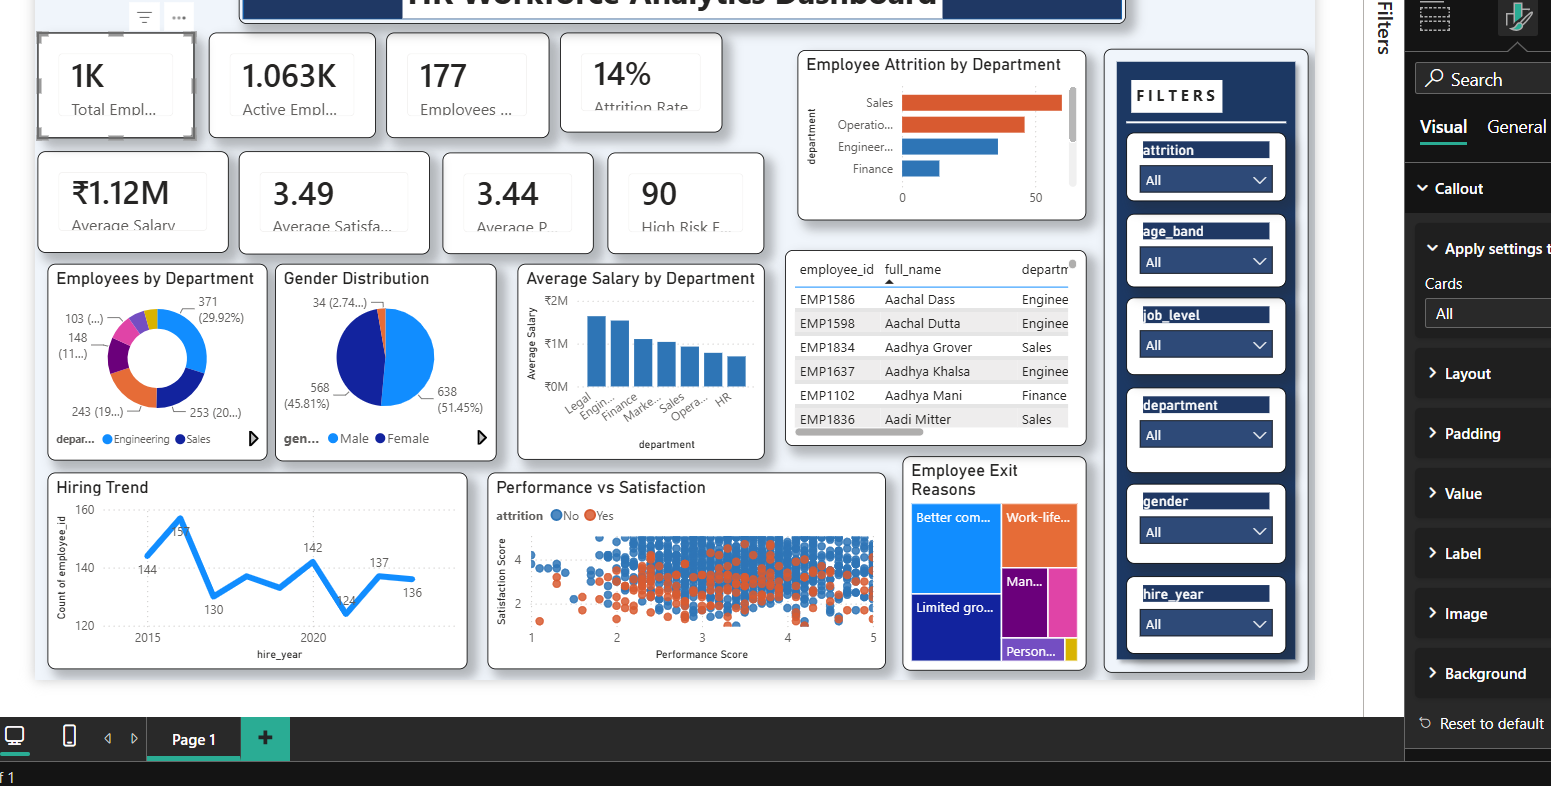

The page's visual inventory and layout, read from the dashboard file:
{"tool":"powerbi","page":{"name":"Page 1","canvas":[1280,720],"ordinal":0},"visuals":[{"type":"shape","box":[1069.1,89.1,204.5,623.6],"z":0},{"type":"cardVisual","fields":{"Data":["hr_cleaned.Total Employees"]},"box":[2.9,72.9,157.1,105.7],"z":1000},{"type":"cardVisual","fields":{"Data":["hr_cleaned.Active Employees"]},"box":[173.8,72.5,167.5,107.5],"z":2000},{"type":"cardVisual","fields":{"Data":["hr_cleaned.Employees Left"]},"box":[351.2,72.5,162.5,107.5],"z":3000},{"type":"cardVisual","fields":{"Data":["hr_cleaned.Attrition Rate"]},"box":[525,72.5,162.5,107.5],"z":4000},{"type":"cardVisual","fields":{"Data":["hr_cleaned.Average Salary"]},"box":[2.9,191.4,191.4,101.4],"z":5000},{"type":"cardVisual","fields":{"Data":["hr_cleaned.Average Performance"]},"box":[407.1,192.9,151.4,101.4],"z":6000},{"type":"cardVisual","fields":{"Data":["hr_cleaned.Average Satisfaction"]},"box":[204.3,191.4,191.4,102.9],"z":7000},{"type":"cardVisual","fields":{"Data":["hr_cleaned.High Risk Employees"]},"box":[572.9,192.9,157.1,101.4],"z":8000},{"type":"donutChart","title":"Employees by Department","fields":{"Category":["hr_cleaned.department"],"Y":["CountNonNull(hr_cleaned.employee_id)"]},"box":[12.9,304.3,220,197.1],"z":9000},{"type":"pieChart","title":"Gender Distribution","fields":{"Category":["hr_cleaned.gender"],"Y":["CountNonNull(hr_cleaned.employee_id)"]},"box":[257.5,303.8,203.8,197.5],"z":10000},{"type":"clusteredBarChart","title":"Employee Attrition by Department","fields":{"Category":["hr_cleaned.department"],"Y":["hr_cleaned.Employees Left"]},"box":[750,303.8,288.8,181.2],"z":11000},{"type":"columnChart","title":"Average Salary by Department","fields":{"Category":["hr_cleaned.department"],"Y":["hr_cleaned.Average Salary"]},"box":[482.9,304.3,247.1,195.7],"z":12000},{"type":"lineChart","title":"Hiring Trend","fields":{"Category":["hr_cleaned.hire_year"],"Y":["CountNonNull(hr_cleaned.employee_id)"]},"box":[12.9,512.9,420,197.1],"z":13000},{"type":"barChart","title":"Employee Exit Reasons","fields":{"Category":["hr_cleaned.exit_reason"],"Y":["CountNonNull(hr_cleaned.employee_id)"]},"box":[838.8,496.2,212.5,213.8],"z":14000},{"type":"scatterChart","title":"Performance vs Satisfaction","fields":{"X":["Sum(hr_cleaned.performance_score)"],"Y":["Sum(hr_cleaned.satisfaction_score)"],"Series":["hr_cleaned.attrition"],"Category":["hr_cleaned.employee_id"]},"box":[452.5,512.5,377.5,197.5],"z":15000},{"type":"clusteredBarChart","title":"Attrition by Job Level","fields":{"Category":["hr_cleaned.job_level"],"Y":["Sum(hr_cleaned.attrition_flag)"]},"box":[750,81.2,301.2,196.2],"z":16000},{"type":"slicer","fields":{"Values":["hr_cleaned.department"]},"box":[1091.3,427.3,160,85.3],"z":17000},{"type":"slicer","fields":{"Values":["hr_cleaned.gender"]},"box":[1091.2,523.8,160,80],"z":18000},{"type":"slicer","fields":{"Values":["hr_cleaned.job_level"]},"box":[1091.3,337.3,160,77.3],"z":19000},{"type":"slicer","fields":{"Values":["hr_cleaned.hire_year"]},"box":[1091.2,616.2,160,77.5],"z":20000},{"type":"slicer","fields":{"Values":["hr_cleaned.age_band"]},"box":[1091.3,253.3,160,73.3],"z":21000},{"type":"slicer","fields":{"Values":["hr_cleaned.attrition"]},"box":[1091.3,172.7,160,68.7],"z":22000},{"type":"textbox","box":[1096,120,91.3,32.7],"z":23000},{"type":"shape","box":[1091.4,154.3,160,17.1],"z":24000},{"type":"shape","box":[203.8,0,887.5,63.8],"z":25000},{"type":"textbox","box":[367.5,5,540,53.8],"z":25001}]}

Visuals, with their boxes on the page's 1280x720 design canvas (x1, y1, x2, y2). These are canvas units, not pixel positions in the 1551x786 screenshot, which may show the page scaled, cropped or inside an application window:
shape: Rect(1069, 89, 1274, 713)
cardVisual - hr_cleaned.Total Employees: Rect(3, 73, 160, 179)
cardVisual - hr_cleaned.Active Employees: Rect(174, 72, 341, 180)
cardVisual - hr_cleaned.Employees Left: Rect(351, 72, 514, 180)
cardVisual - hr_cleaned.Attrition Rate: Rect(525, 72, 688, 180)
cardVisual - hr_cleaned.Average Salary: Rect(3, 191, 194, 293)
cardVisual - hr_cleaned.Average Performance: Rect(407, 193, 558, 294)
cardVisual - hr_cleaned.Average Satisfaction: Rect(204, 191, 396, 294)
cardVisual - hr_cleaned.High Risk Employees: Rect(573, 193, 730, 294)
"Employees by Department" donutChart: Rect(13, 304, 233, 501)
"Gender Distribution" pieChart: Rect(258, 304, 461, 501)
"Employee Attrition by Department" clusteredBarChart: Rect(750, 304, 1039, 485)
"Average Salary by Department" columnChart: Rect(483, 304, 730, 500)
"Hiring Trend" lineChart: Rect(13, 513, 433, 710)
"Employee Exit Reasons" barChart: Rect(839, 496, 1051, 710)
"Performance vs Satisfaction" scatterChart: Rect(452, 512, 830, 710)
"Attrition by Job Level" clusteredBarChart: Rect(750, 81, 1051, 277)
slicer - hr_cleaned.department: Rect(1091, 427, 1251, 513)
slicer - hr_cleaned.gender: Rect(1091, 524, 1251, 604)
slicer - hr_cleaned.job_level: Rect(1091, 337, 1251, 415)
slicer - hr_cleaned.hire_year: Rect(1091, 616, 1251, 694)
slicer - hr_cleaned.age_band: Rect(1091, 253, 1251, 327)
slicer - hr_cleaned.attrition: Rect(1091, 173, 1251, 241)
textbox: Rect(1096, 120, 1187, 153)
shape: Rect(1091, 154, 1251, 171)
shape: Rect(204, 0, 1091, 64)
textbox: Rect(368, 5, 908, 59)
